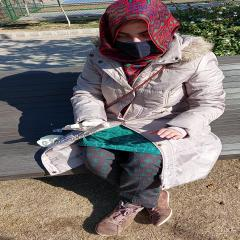gloved: (64, 118, 108, 132)
not-gloved: (151, 128, 183, 141)
